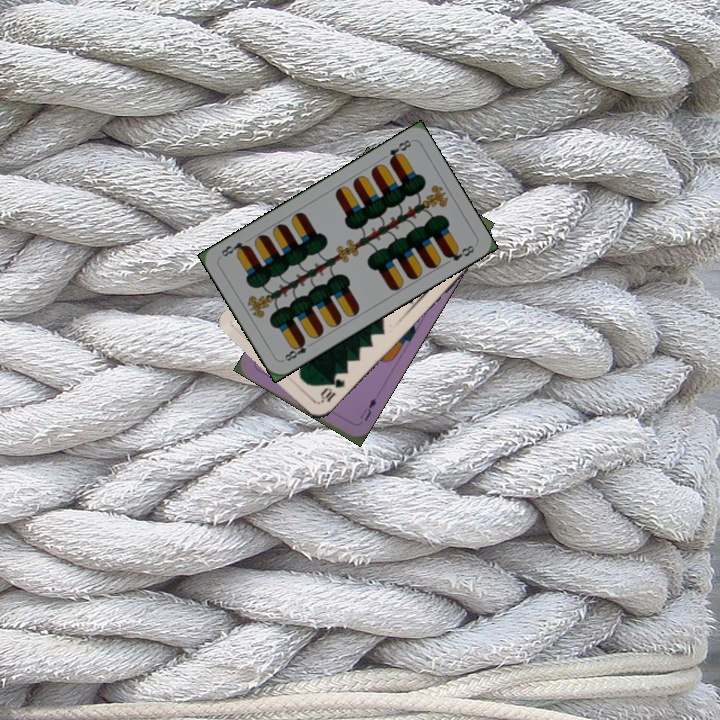E8: (279, 336, 316, 364), (385, 136, 414, 166)
EU: (355, 394, 379, 424)
G10: (316, 375, 348, 405)
